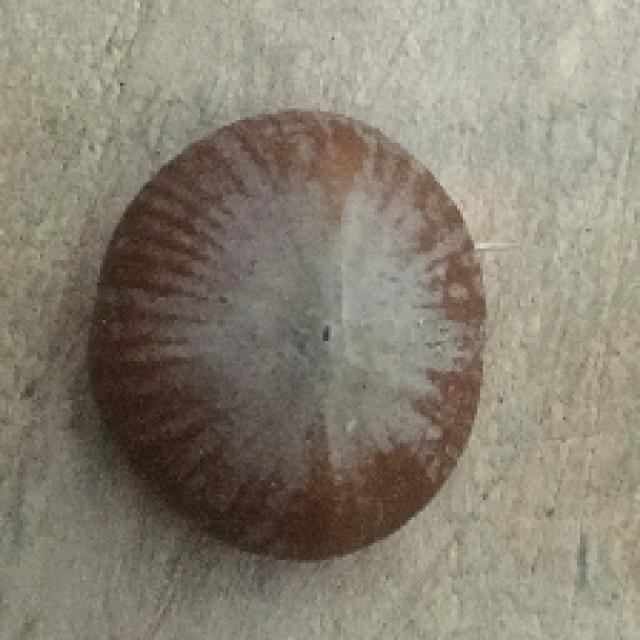QualityHazelnut: (82, 111, 486, 565)
